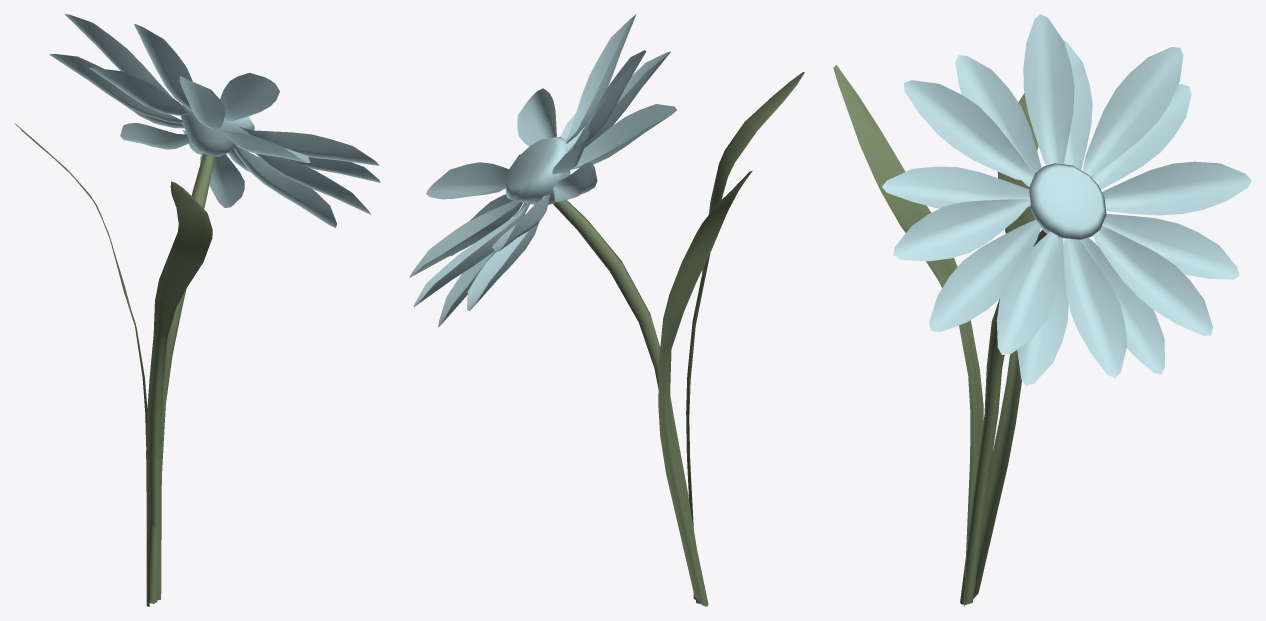
File: BlueFlower_ForTerrain_Varient.fbx
The picture shows the model from 3 angles, left to right: view 1: azimuth 30°, elevation 25°; view 2: azimuth 150°, elevation 25°; view 3: azimuth 270°, elevation 25°; orthographic projection. The views are drawn at different scales.
Visible parts, largest first — view 1: pPlane60; view 2: pPlane60; view 3: pPlane60.
Boxes of the visible parts, x1,y1,x2,y2 form: pPlane60: (14,14,380,606); pPlane60: (409,14,804,606); pPlane60: (833,14,1251,606).
Size of the model in its own units: 0.2251 by 0.3507 by 0.2208.
